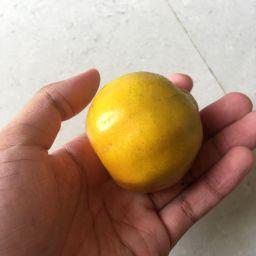Ripe: (85, 72, 201, 188)
